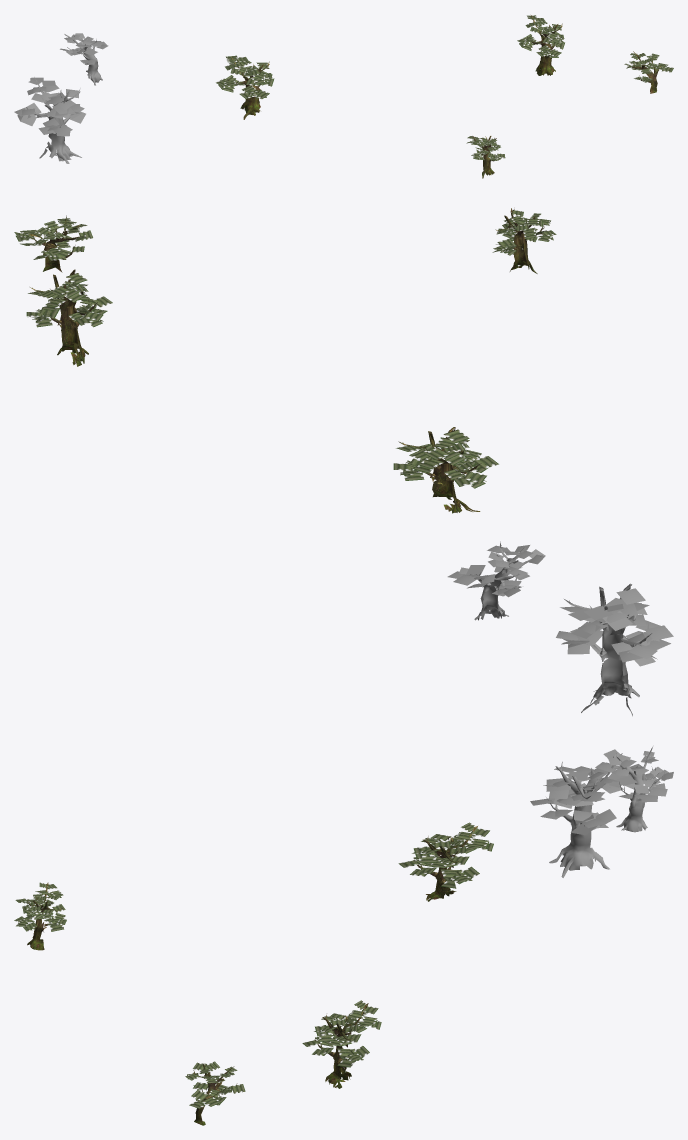
The model's file is S_Tree_Green022_A.FBX.
3 renders of one model, top to bottom at view 1: azimuth 30°, elevation 25°; view 2: azimuth 150°, elevation 25°; view 3: azimuth 270°, elevation 25°, orthographic. The views are drawn at different scales.
Parts seen in each view (by area): view 1: S_Tree_Green022_002, S_Tree_Green022_004, S_Tree_Green022_001, S_Tree_Green021_001, S_Tree_Green021_002, S_Tree_Green022_003; view 2: S_Tree_Green022_002, S_Tree_Green022_004, S_Tree_Green022_001, S_Tree_Green021_001, S_Tree_Green021_002, S_Tree_Green022_003; view 3: S_Tree_Green022_002, S_Tree_Green022_004, S_Tree_Green022_001, S_Tree_Green021_001, S_Tree_Green022_003, S_Tree_Green021_002.
Part boxes in pixels (x1,y1,x2,y2): S_Tree_Green022_002: (14,77,85,163); S_Tree_Green022_004: (216,55,274,119); S_Tree_Green022_001: (517,15,564,75); S_Tree_Green021_001: (60,33,108,85); S_Tree_Green021_002: (624,51,673,93); S_Tree_Green022_003: (466,136,505,178); S_Tree_Green022_002: (556,583,673,716); S_Tree_Green022_004: (393,427,498,513); S_Tree_Green022_001: (26,269,112,366); S_Tree_Green021_001: (447,541,545,620); S_Tree_Green021_002: (14,215,92,272); S_Tree_Green022_003: (492,208,556,273); S_Tree_Green022_002: (530,749,636,877); S_Tree_Green022_004: (398,822,493,901); S_Tree_Green022_001: (302,1000,381,1088); S_Tree_Green021_001: (607,747,673,832); S_Tree_Green022_003: (14,882,66,950); S_Tree_Green021_002: (185,1061,245,1125).
Size of the model in its own units: 12653 by 9599 by 2339.
